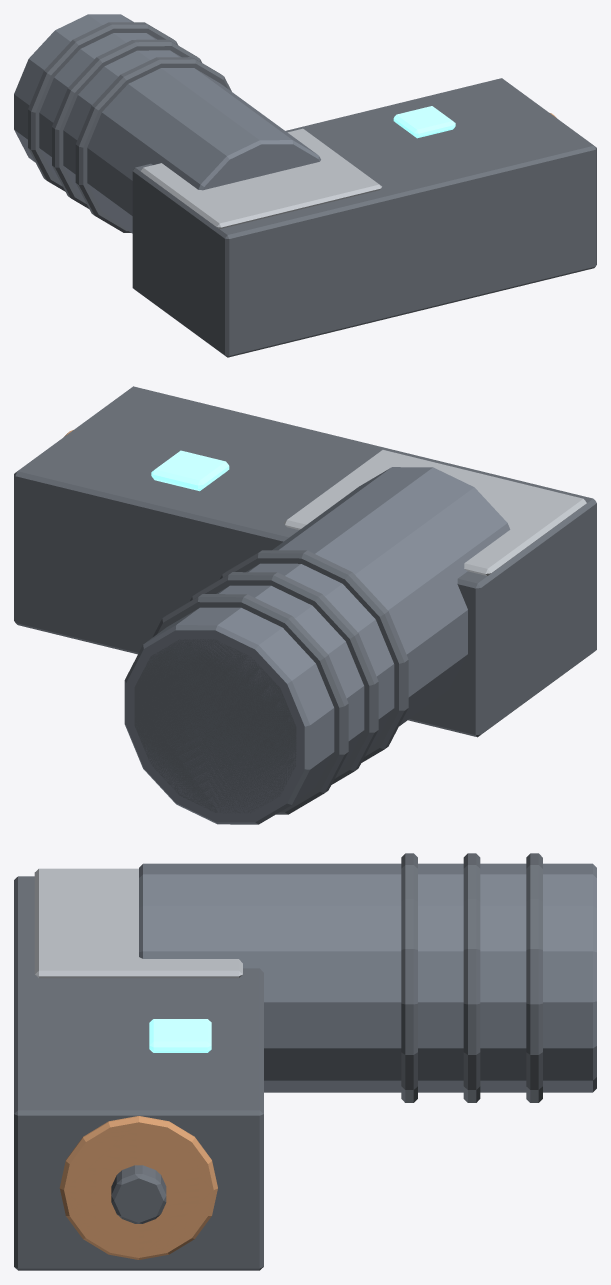
The model's file is servo_motor.glb.
3 views of the same model, one above another, from view 1: azimuth 30°, elevation 25°; view 2: azimuth 150°, elevation 25°; view 3: azimuth 270°, elevation 25° (orthographic). The views are drawn at different scales.
Visible parts, largest first — view 1: servo_motor; view 2: servo_motor; view 3: servo_motor.
Part boxes in pixels (x1,y1,x2,y2): servo_motor: (14,14,596,357); servo_motor: (14,386,596,824); servo_motor: (14,853,596,1270).
Bounding box in the file's own units: 0.285 × 0.12 × 0.28.
